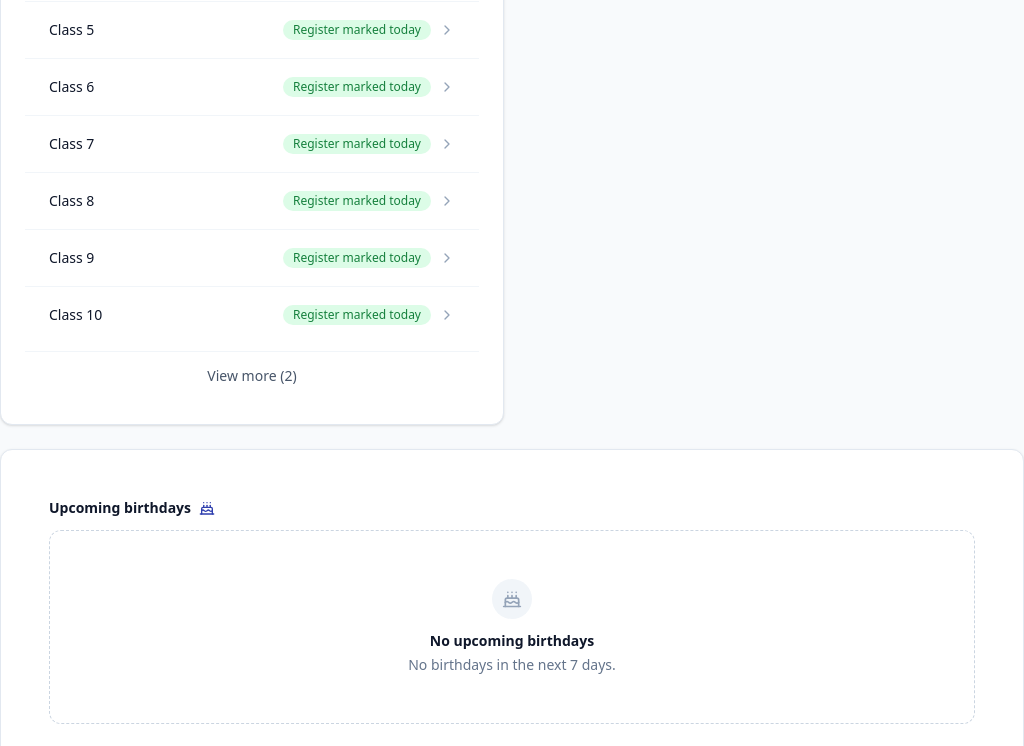
Test: SchoolDashboardPage › caps the teacher's classes at 10 rows, revealing the rest with View more
(page scrolled)
Expected: the text "Class 10" is shown, [49,305,102,325]
Expected: the text "Class 11" is not shown
Click the button "View more (2)": [252, 376] box [195,360,309,392]
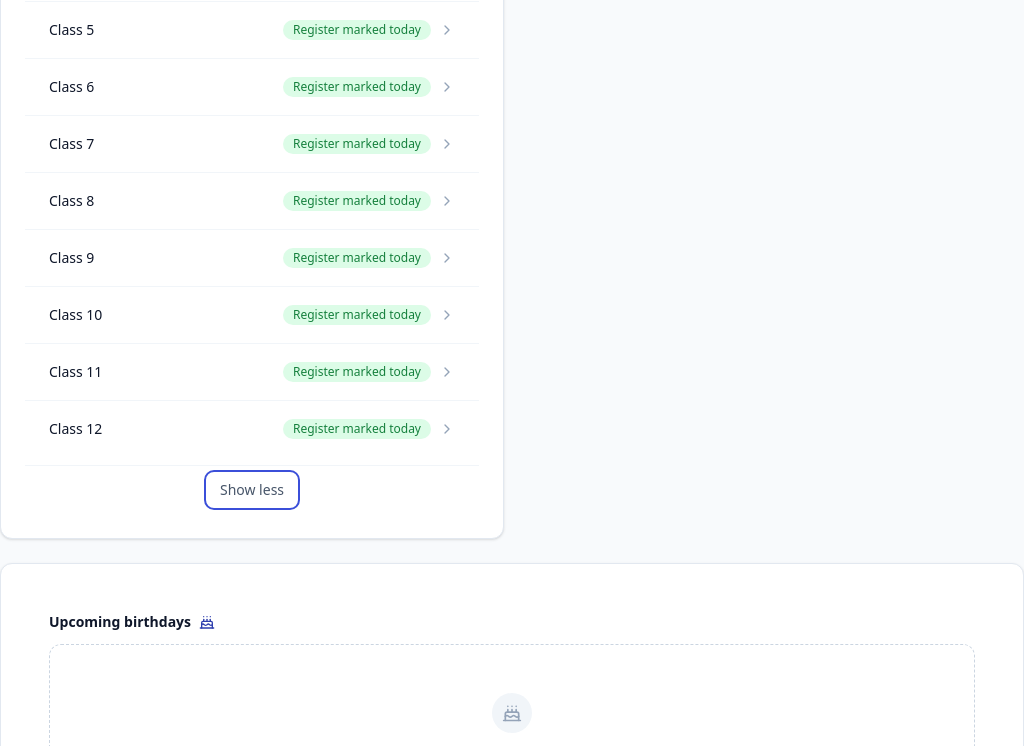
Expected: the text "Class 12" is shown, [49,419,102,439]
Click the button "Show less": [252, 490] box [208,474,296,506]
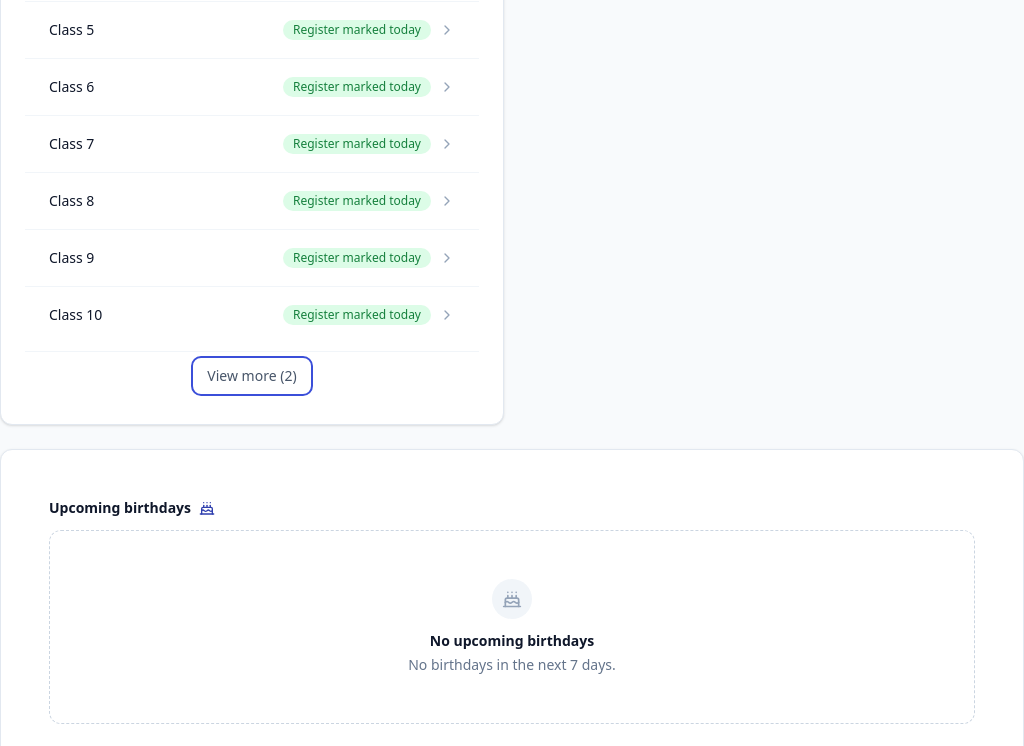
Expected: the button "Class 11" is gone
